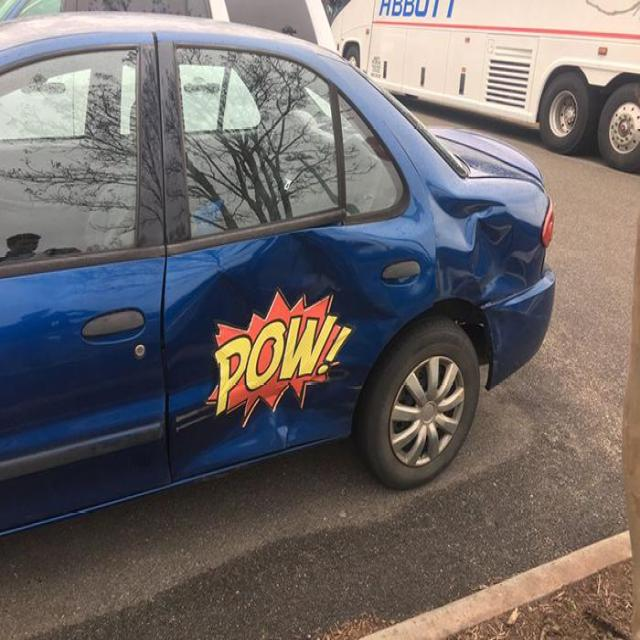dent: (165, 227, 438, 478), (425, 175, 546, 316)
